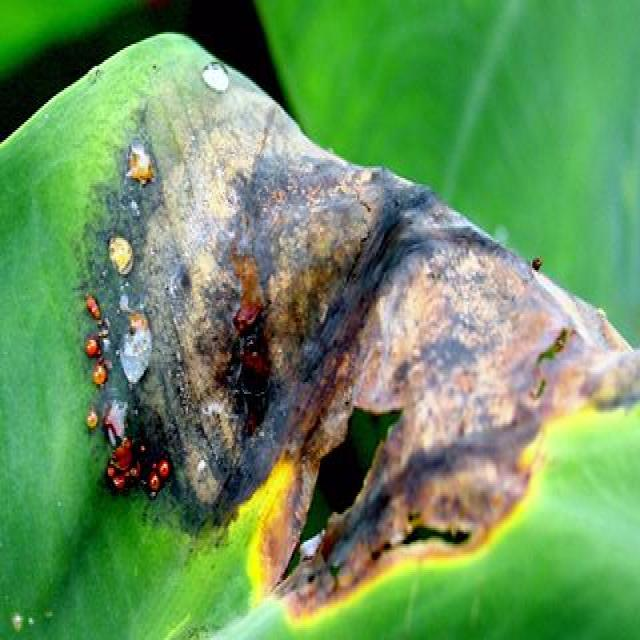blight: (174, 95, 606, 640)
